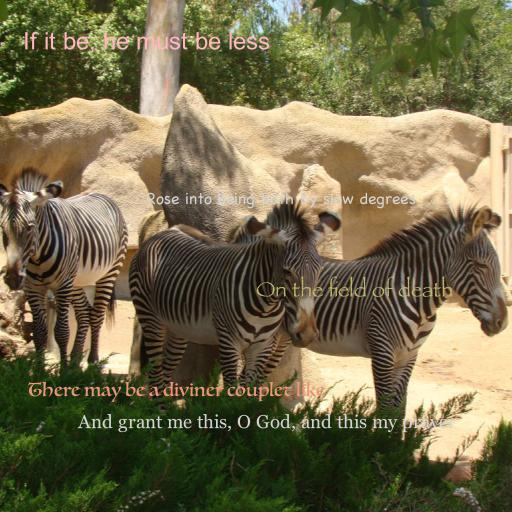Arial: (22, 31, 270, 53)
Chalkboard: (146, 192, 416, 209)
Georgia: (78, 414, 456, 433)
Luminari: (27, 381, 325, 402)
Papyrus: (255, 276, 453, 297)
